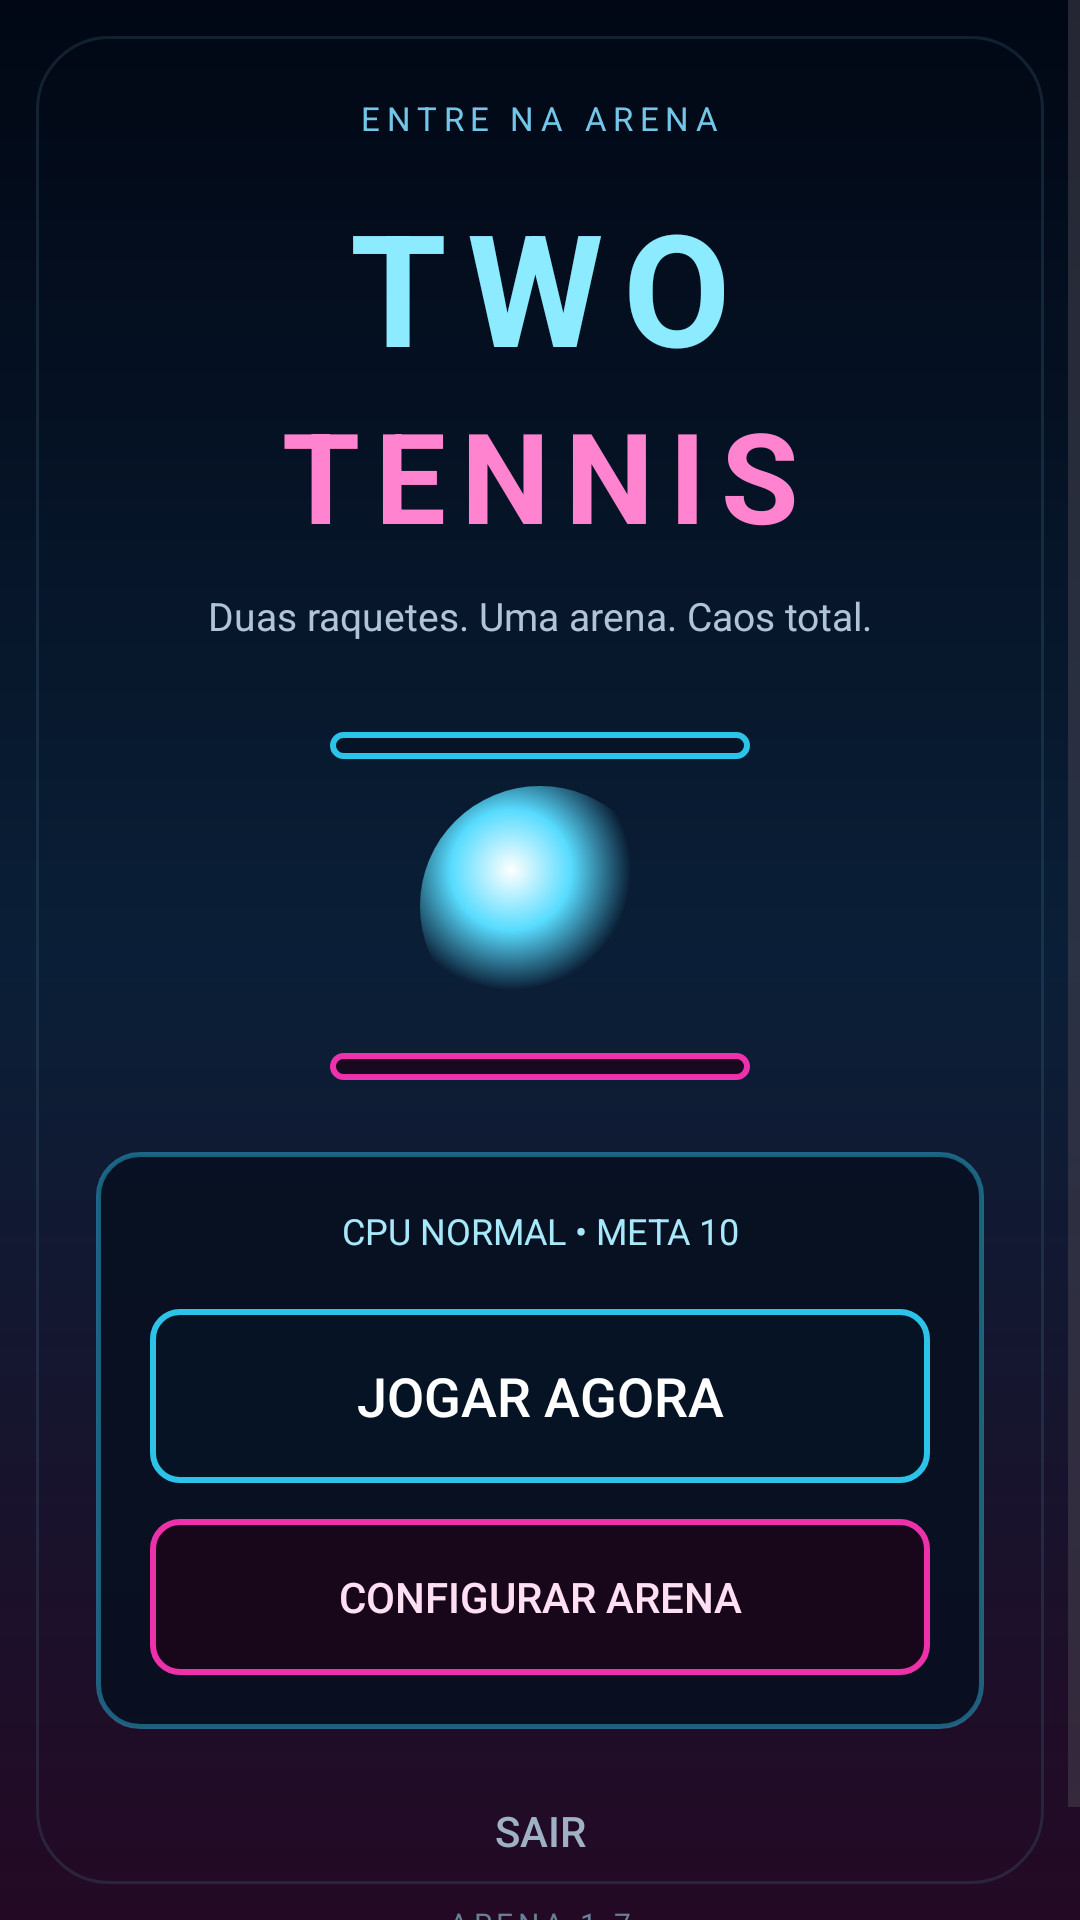

Screen size 1080px×1920px. Icon name, then its box in pixels as (x1, y1, x2, y2):
bola menu: (420, 786, 624, 984)
